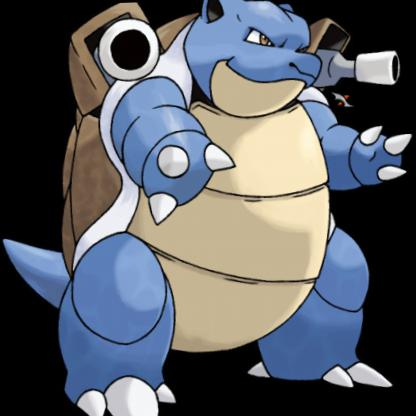Blastoise: (1, 1, 416, 399)
